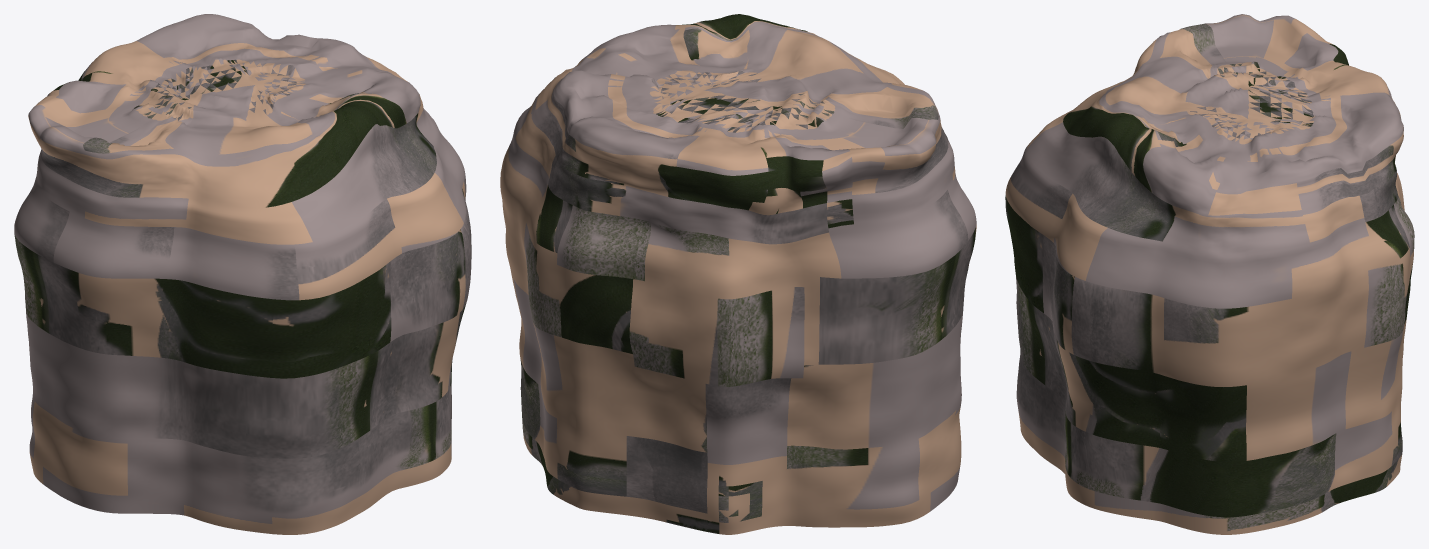
Rendered from SM_Island4_L.fbx.
3 views of the same model, side by side, from view 1: azimuth 30°, elevation 25°; view 2: azimuth 150°, elevation 25°; view 3: azimuth 270°, elevation 25° (orthographic). The views are drawn at different scales.
Visible parts, largest first — view 1: Line009; view 2: Line009; view 3: Line009.
Boxes of the visible parts, bbox=[...] form: Line009: bbox=[14, 14, 471, 534]; Line009: bbox=[500, 14, 976, 534]; Line009: bbox=[1005, 14, 1414, 534].
Bounding box in the file's own units: 2009 × 1664 × 1760.
